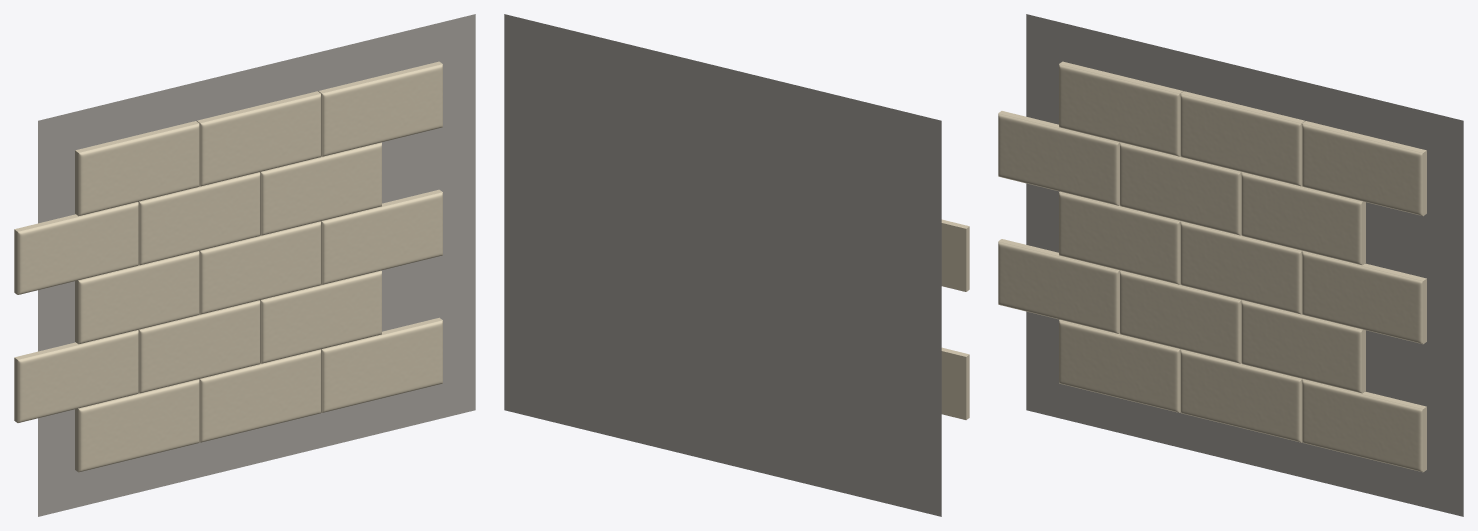
Rendered from terilgan.glb.
3 views of the same model, side by side, from view 1: azimuth 30°, elevation 25°; view 2: azimuth 150°, elevation 25°; view 3: azimuth 330°, elevation 25° (orthographic).
Parts seen in each view (by area): view 1: Plane, t4_0, t4_1, t1_0, t3_0, t4_2, t0_0, t2_0, t0_2, t2_2, t2_1, t3_1 (+4 smaller); view 2: Plane, t3_0, t1_0; view 3: Plane, t4_2, t4_1, t2_2, t0_2, t4_0, t1_2, t3_2, t1_0, t3_0, t0_1, t2_1 (+4 smaller).
Boxes of the visible parts, x1=… form: Plane: x1=38, y1=14, x2=475, y2=516; t4_0: x1=75, y1=121, x2=199, y2=216; t4_1: x1=197, y1=91, x2=321, y2=186; t1_0: x1=14, y1=330, x2=138, y2=422; t3_0: x1=14, y1=202, x2=138, y2=294; t4_2: x1=318, y1=61, x2=442, y2=156; t0_0: x1=75, y1=379, x2=199, y2=472; t2_0: x1=75, y1=251, x2=199, y2=344; t0_2: x1=321, y1=317, x2=442, y2=412; t2_2: x1=321, y1=189, x2=442, y2=284; t2_1: x1=199, y1=221, x2=321, y2=314; t3_1: x1=138, y1=172, x2=260, y2=265; Plane: x1=504, y1=14, x2=941, y2=516; t3_0: x1=941, y1=219, x2=969, y2=291; t1_0: x1=941, y1=347, x2=969, y2=419; Plane: x1=1026, y1=14, x2=1463, y2=516; t4_2: x1=1302, y1=121, x2=1426, y2=216; t4_1: x1=1180, y1=91, x2=1304, y2=186; t2_2: x1=1302, y1=251, x2=1426, y2=344; t0_2: x1=1302, y1=379, x2=1426, y2=472; t4_0: x1=1059, y1=61, x2=1183, y2=156; t1_2: x1=1241, y1=300, x2=1365, y2=393; t3_2: x1=1241, y1=172, x2=1365, y2=265; t1_0: x1=998, y1=239, x2=1120, y2=333; t3_0: x1=998, y1=111, x2=1120, y2=205; t0_1: x1=1180, y1=349, x2=1302, y2=442; t2_1: x1=1180, y1=221, x2=1302, y2=314.
Bounding box in the file's own units: 1.91 × 1.57 × 0.0369.
